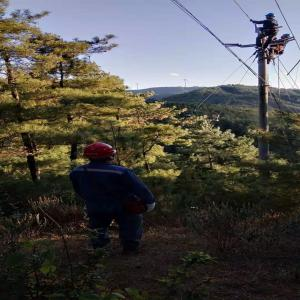blue: (265, 14, 277, 20), (281, 34, 292, 40)
red: (83, 145, 119, 164)
